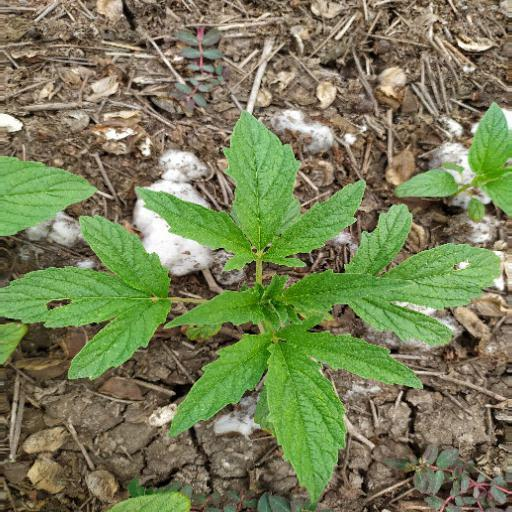crop: (30, 120, 506, 495)
